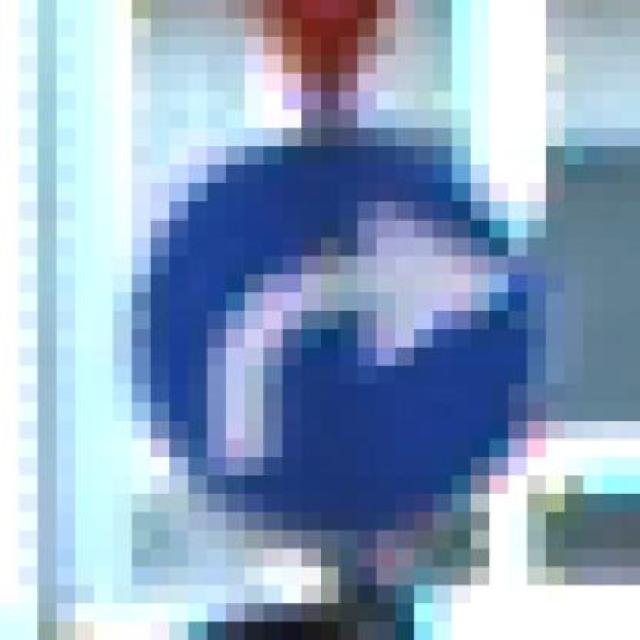Turn right ahead: (76, 91, 564, 548)
